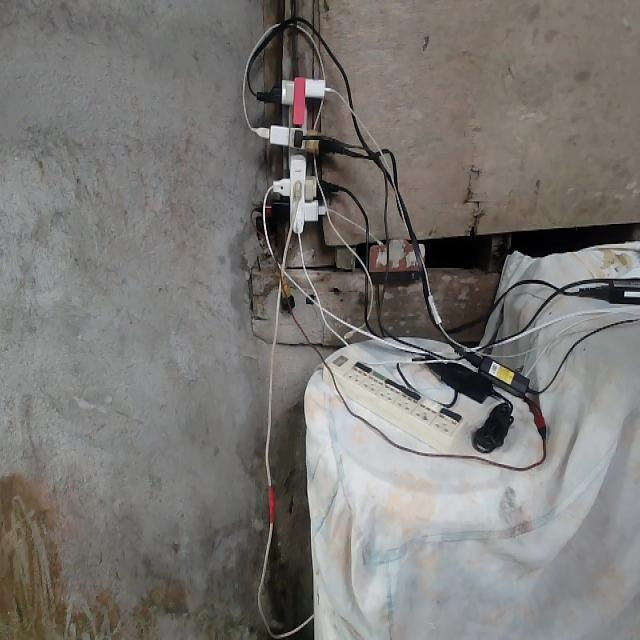-: (259, 72, 339, 243)
